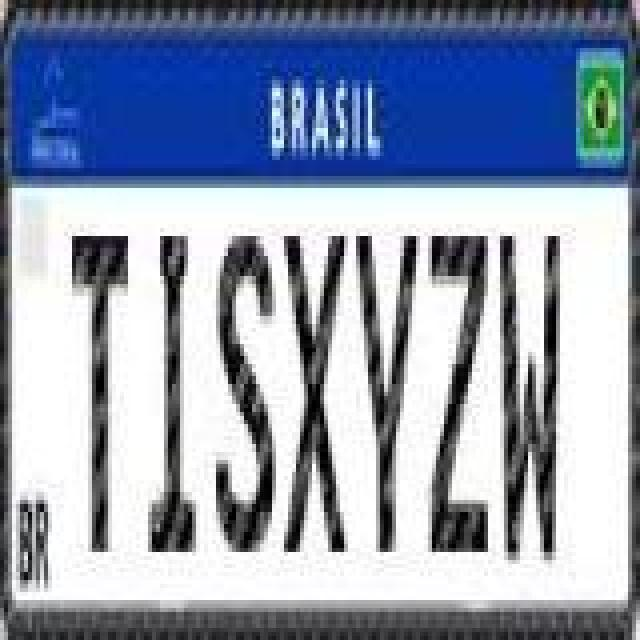I: (150, 230, 202, 554)
S: (216, 230, 280, 554)
T: (70, 230, 130, 554)
W: (496, 232, 560, 568)
X: (282, 224, 350, 560)
Y: (356, 230, 420, 554)
Z: (426, 224, 486, 560)
